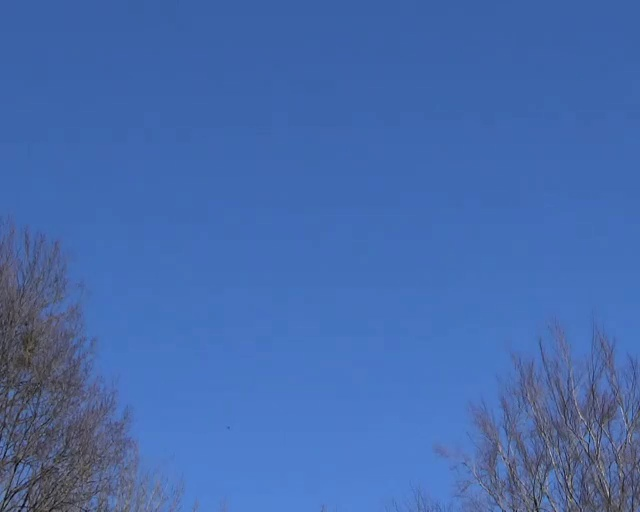BIRD: (225, 424, 232, 431)
